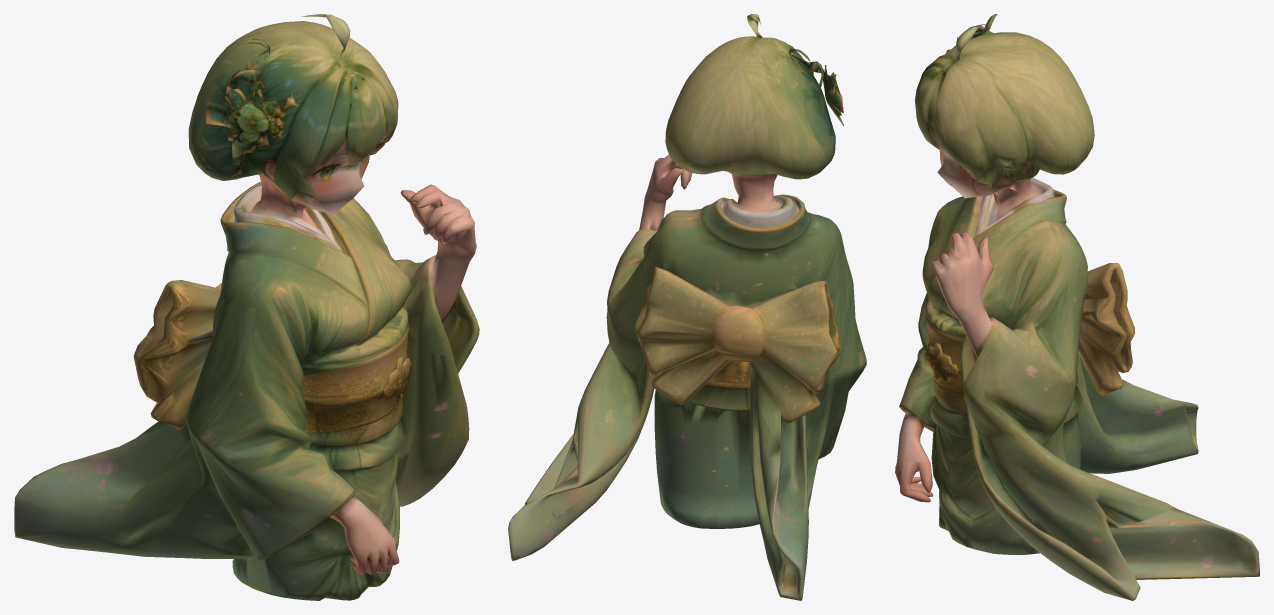
3 views of the same model, side by side, from view 1: azimuth 30°, elevation 25°; view 2: azimuth 150°, elevation 25°; view 3: azimuth 270°, elevation 25° (orthographic). The views are drawn at different scales.
Visible parts, largest first — view 1: material; view 2: material; view 3: material.
Boxes of the visible parts, bbox=[...] form: material: bbox=[14, 14, 479, 600]; material: bbox=[508, 14, 866, 600]; material: bbox=[895, 14, 1259, 600].
Size of the model in its own units: 1.29 by 1.9 by 1.27.
1 material, 1 textured.
